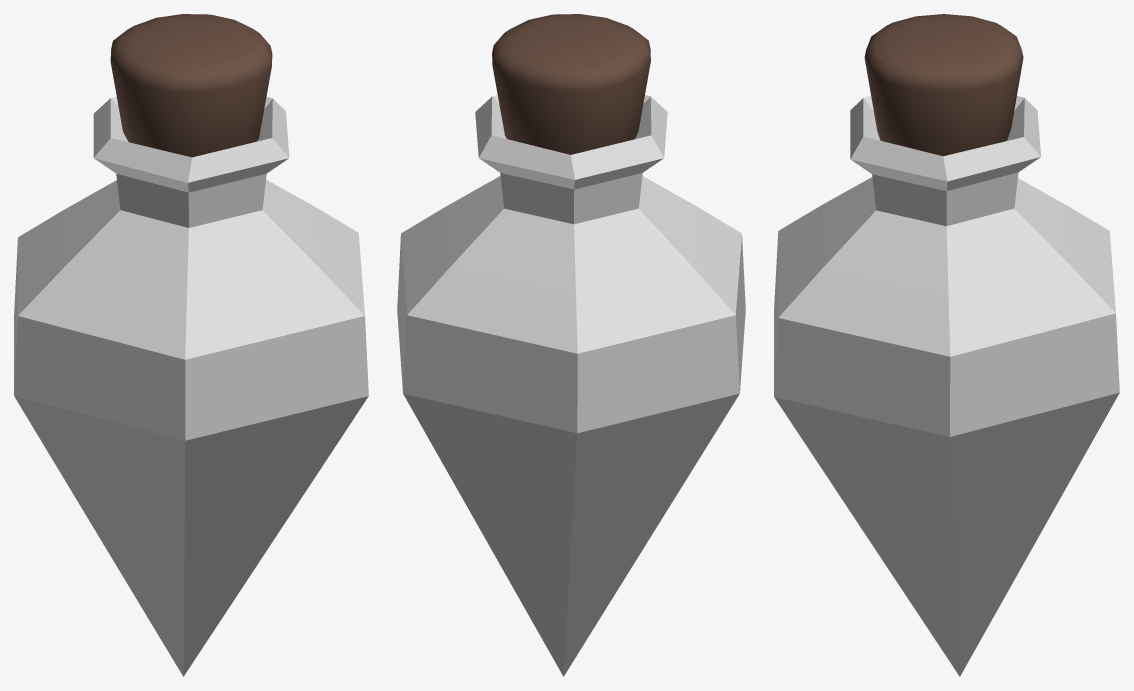
Rendered from potion10_filled.glb.
3 views of the same model, side by side, from view 1: azimuth 30°, elevation 25°; view 2: azimuth 150°, elevation 25°; view 3: azimuth 270°, elevation 25° (orthographic).
Visible parts, largest first — view 1: Potion10_Filled; view 2: Potion10_Filled; view 3: Potion10_Filled.
Boxes of the visible parts, bbox=[...] form: Potion10_Filled: bbox=[14, 14, 368, 676]; Potion10_Filled: bbox=[397, 14, 745, 676]; Potion10_Filled: bbox=[774, 14, 1119, 676].
Size of the model in its own units: 0.4379 by 0.7742 by 0.3792.
